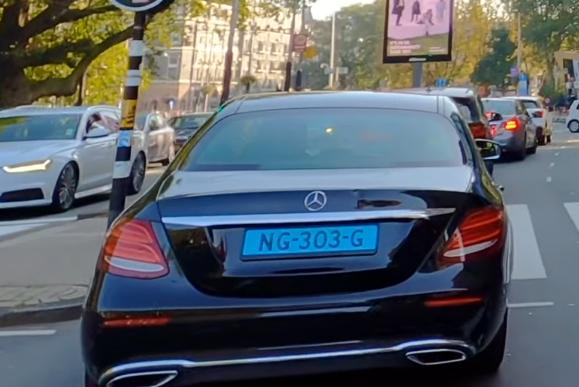license-plate: (238, 222, 379, 261)
